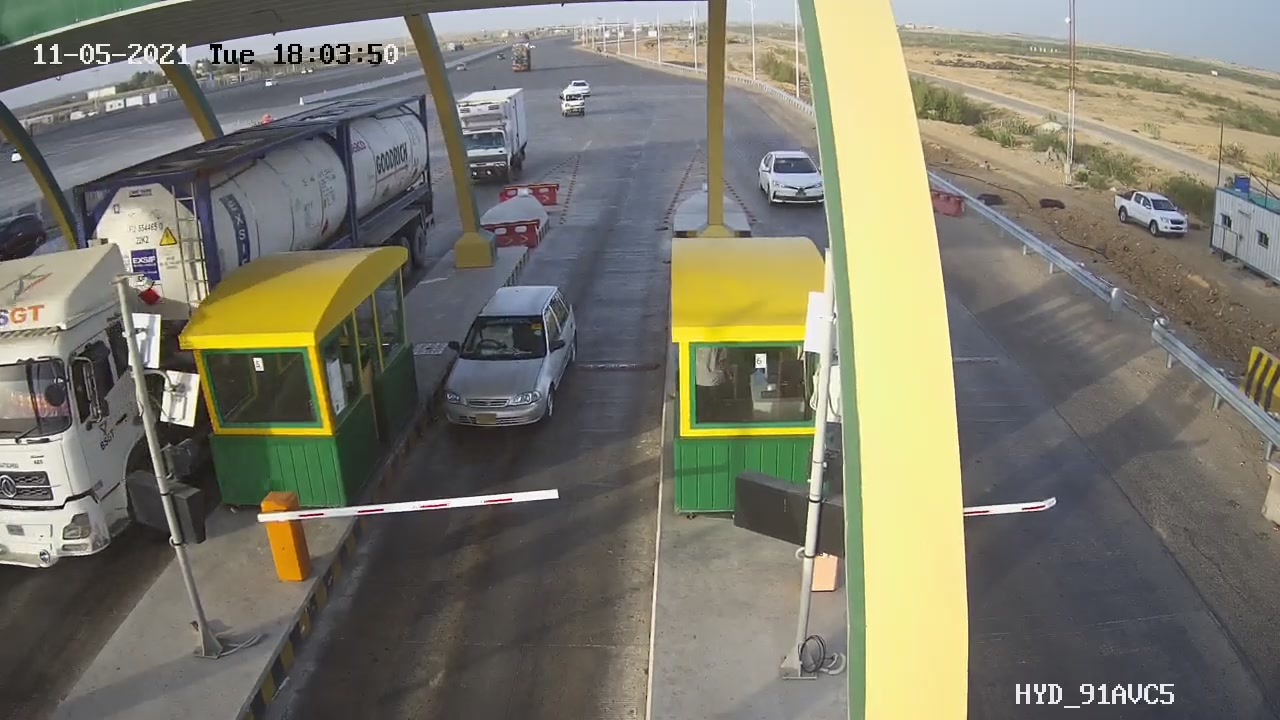F1: (424, 273, 590, 447)
